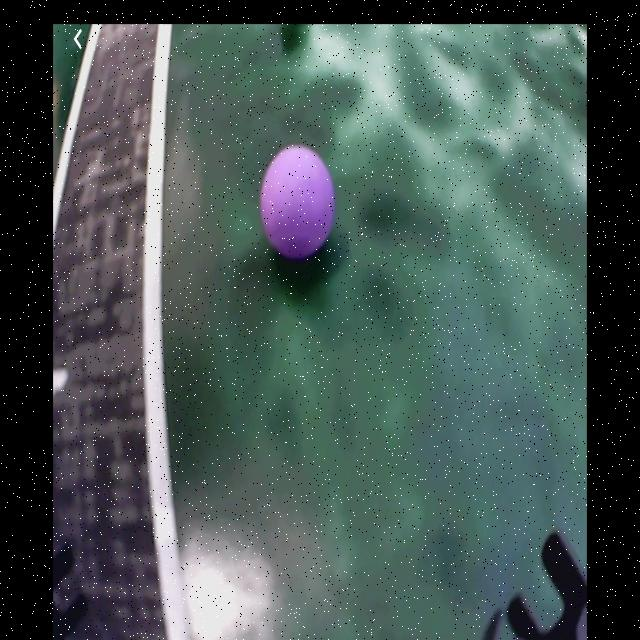ball: (263, 148, 337, 256)
